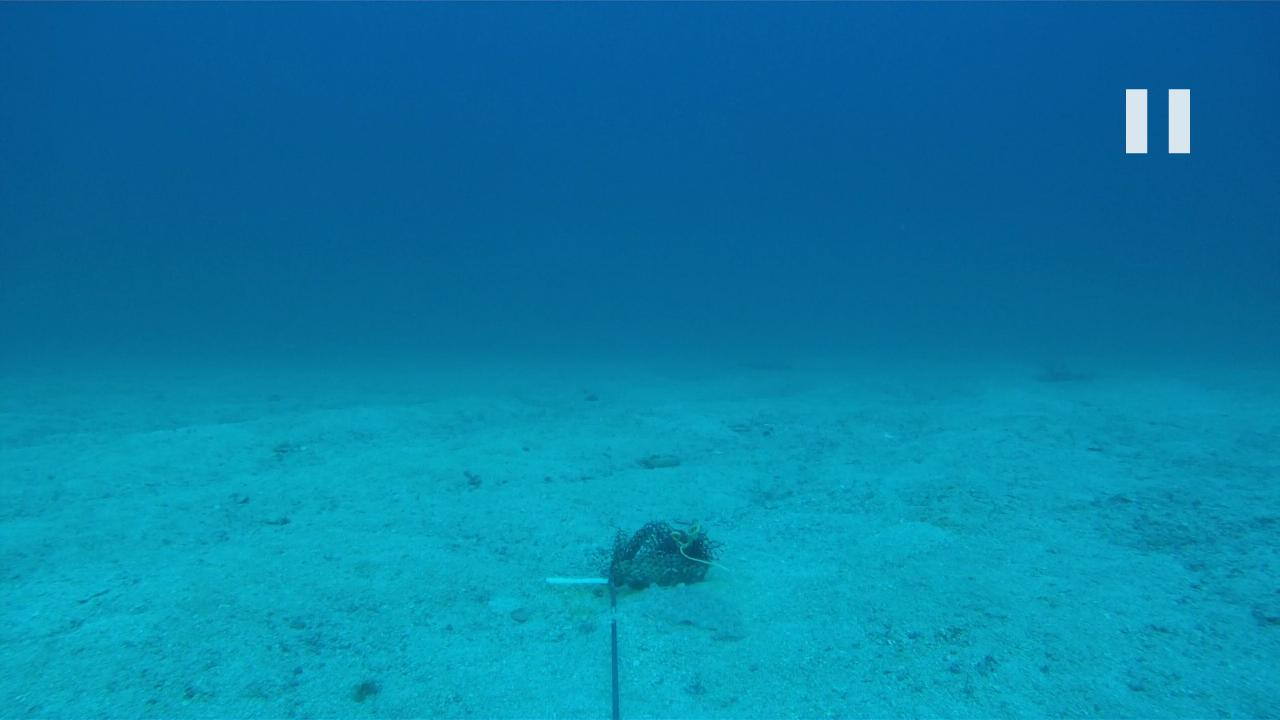bothus: (636, 580, 752, 645)
